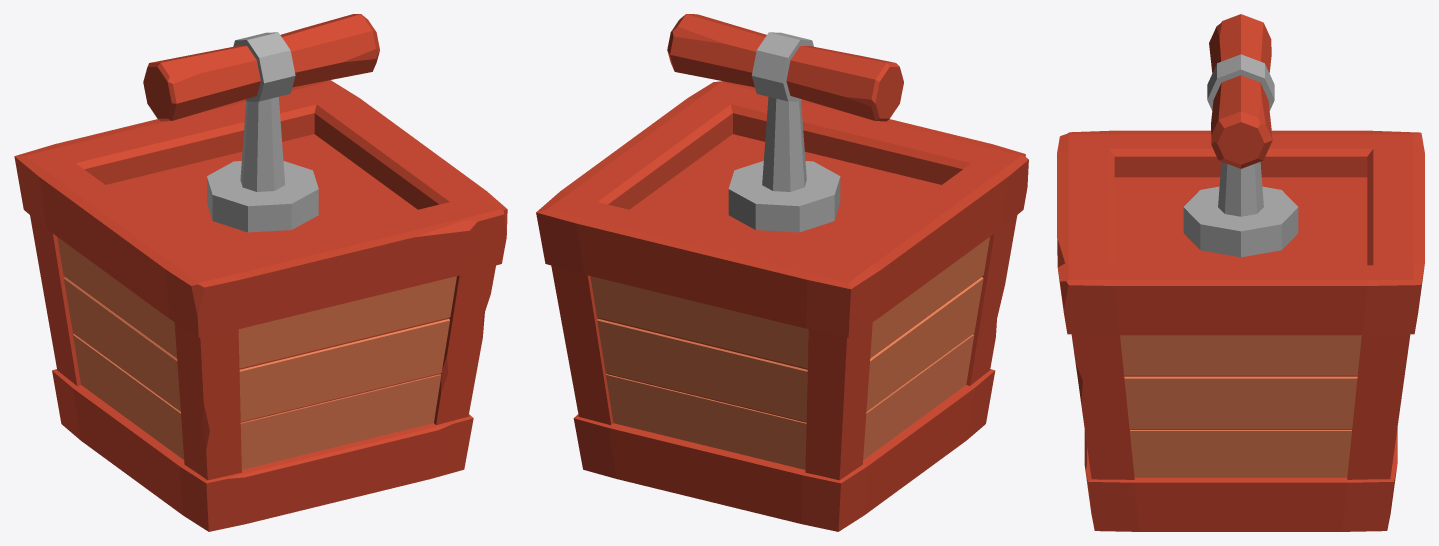
File: TNT.fbx
3 renders of one model, left to right at view 1: azimuth 30°, elevation 25°; view 2: azimuth 150°, elevation 25°; view 3: azimuth 270°, elevation 25°, orthographic.
Parts seen in each view (by area): view 1: Cube.001, Cube.003, Cube.002, Circle.004, Circle.002, Circle.003; view 2: Cube.001, Cube.003, Cube.002, Circle.004, Circle.002, Circle.003; view 3: Cube.001, Cube.002, Circle.004, Circle.002, Circle.003.
Part boxes in pixels (x1,y1,x2,y2): Cube.001: (14, 80, 507, 531); Cube.003: (238, 276, 456, 469); Cube.002: (57, 237, 184, 459); Circle.004: (143, 14, 379, 121); Circle.002: (207, 161, 318, 232); Circle.003: (240, 97, 285, 191); Cube.001: (536, 81, 1028, 531); Cube.003: (590, 276, 808, 469); Cube.002: (863, 237, 989, 459); Circle.004: (667, 14, 903, 121); Circle.002: (728, 161, 840, 232); Circle.003: (762, 97, 806, 191); Cube.001: (1057, 130, 1424, 531); Cube.002: (1120, 335, 1361, 477); Circle.004: (1207, 14, 1274, 168); Circle.002: (1183, 186, 1298, 257); Circle.003: (1218, 161, 1263, 216).
Size of the model in its own units: 0.5759 by 0.5759 by 0.7039.
